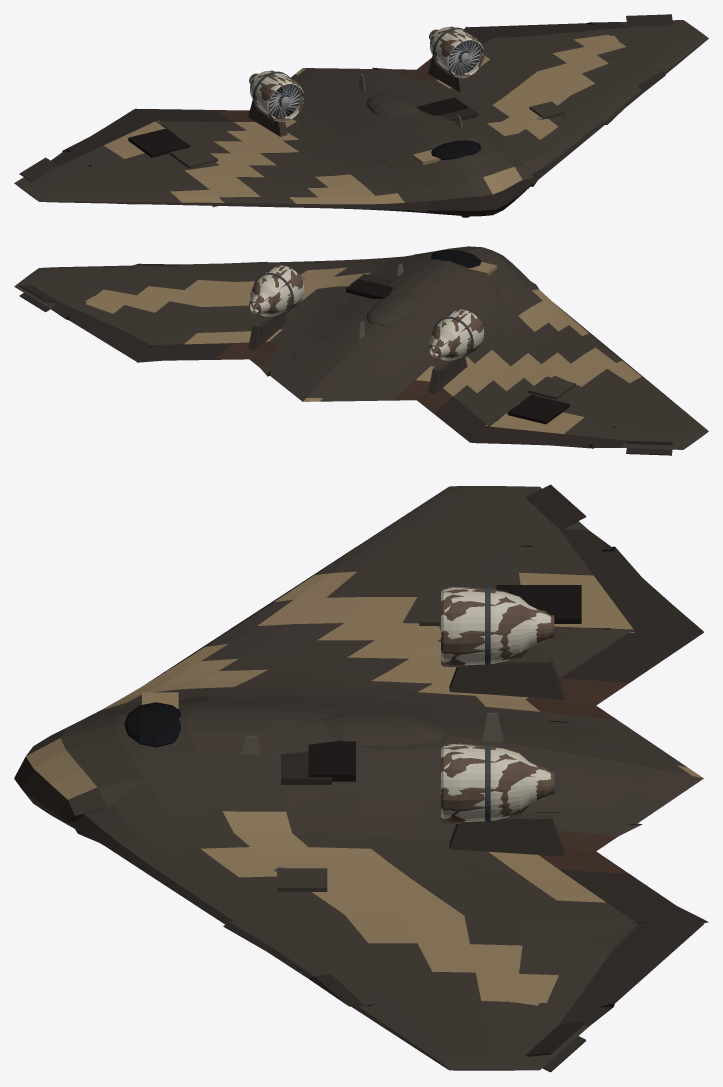
The model's file is jet.glb.
3 renders of one model, top to bottom at view 1: azimuth 30°, elevation 25°; view 2: azimuth 150°, elevation 25°; view 3: azimuth 270°, elevation 25°, orthographic. The views are drawn at different scales.
Parts seen in each view (by area): view 1: Jet_Body, P_front, P_innerL, P_innerR, Jet_EngineR, P_midR, P_panel3, P_engineL_x, P_midL, P_engineR_x, P_engineR, P_engineL (+4 smaller); view 2: Jet_Body, P_front, P_innerL, P_innerR, P_engineR, P_midL, Jet_EngineR, P_midR, P_panel3, P_engineR_x, P_engineL_x, P_engineL (+3 smaller); view 3: Jet_Body, P_front, P_innerR, Jet_EngineR, P_innerL, P_engineL_x, P_engineR_x, P_midR, P_engineL, P_engineR, P_midL, P_panel3 (+3 smaller).
Boxes of the visible parts, left/top/right/bottom form: Jet_Body: left=14, top=14, right=708, bottom=217; P_front: left=297, top=68, right=533, bottom=210; P_innerL: left=161, top=109, right=428, bottom=212; P_innerR: left=372, top=26, right=590, bottom=186; Jet_EngineR: left=428, top=27, right=483, bottom=92; P_midR: left=470, top=24, right=665, bottom=124; P_panel3: left=128, top=128, right=190, bottom=157; P_engineL_x: left=250, top=70, right=304, bottom=124; P_midL: left=62, top=109, right=214, bottom=205; P_engineR_x: left=430, top=26, right=484, bottom=80; P_engineR: left=428, top=27, right=483, bottom=92; P_engineL: left=248, top=71, right=301, bottom=133; Jet_Body: left=14, top=246, right=708, bottom=455; P_front: left=285, top=246, right=501, bottom=398; P_innerL: left=393, top=281, right=601, bottom=421; P_innerR: left=136, top=256, right=401, bottom=376; P_engineR: left=249, top=266, right=304, bottom=349; P_midL: left=472, top=361, right=663, bottom=448; Jet_EngineR: left=248, top=265, right=303, bottom=350; P_midR: left=85, top=261, right=267, bottom=358; P_panel3: left=507, top=394, right=569, bottom=424; P_engineR_x: left=249, top=265, right=302, bottom=335; P_engineL_x: left=429, top=309, right=482, bottom=379; P_engineL: left=429, top=310, right=483, bottom=393; Jet_Body: left=14, top=484, right=703, bottom=1072; P_front: left=17, top=695, right=691, bottom=824; P_innerR: left=73, top=791, right=708, bottom=925; Jet_EngineR: left=439, top=743, right=564, bottom=856; P_innerL: left=101, top=628, right=610, bottom=723; P_engineL_x: left=441, top=587, right=552, bottom=682; P_engineR_x: left=441, top=743, right=552, bottom=838; P_midR: left=223, top=919, right=690, bottom=1006; P_engineL: left=441, top=587, right=564, bottom=700; P_engineR: left=441, top=744, right=564, bottom=856; P_midL: left=291, top=545, right=703, bottom=633; P_panel3: left=496, top=585, right=581, bottom=623.
Bounding box in the file's own units: 32 × 4.17 × 16.11.
